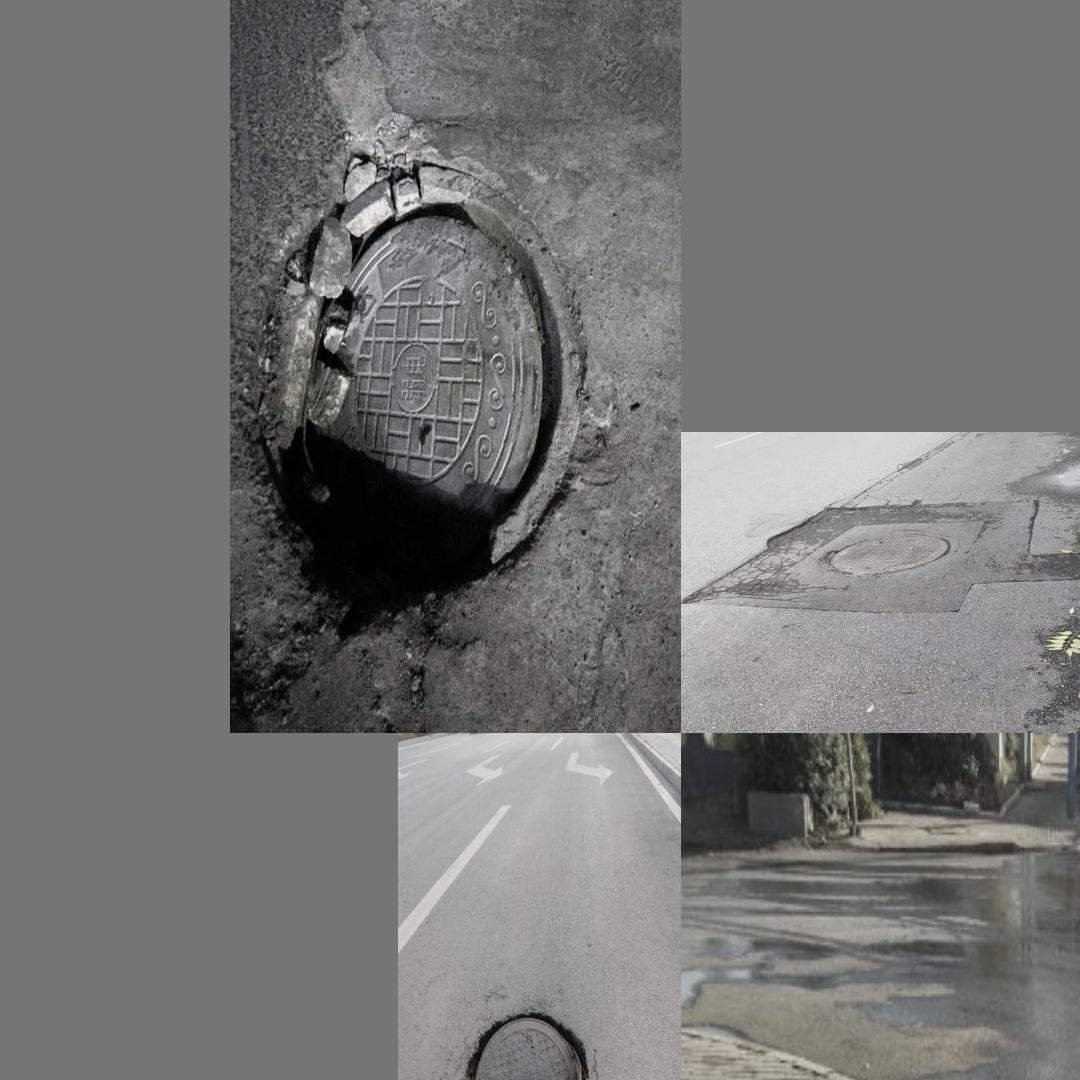circle: (243, 161, 597, 608), (738, 512, 1028, 609), (450, 999, 609, 1080)
